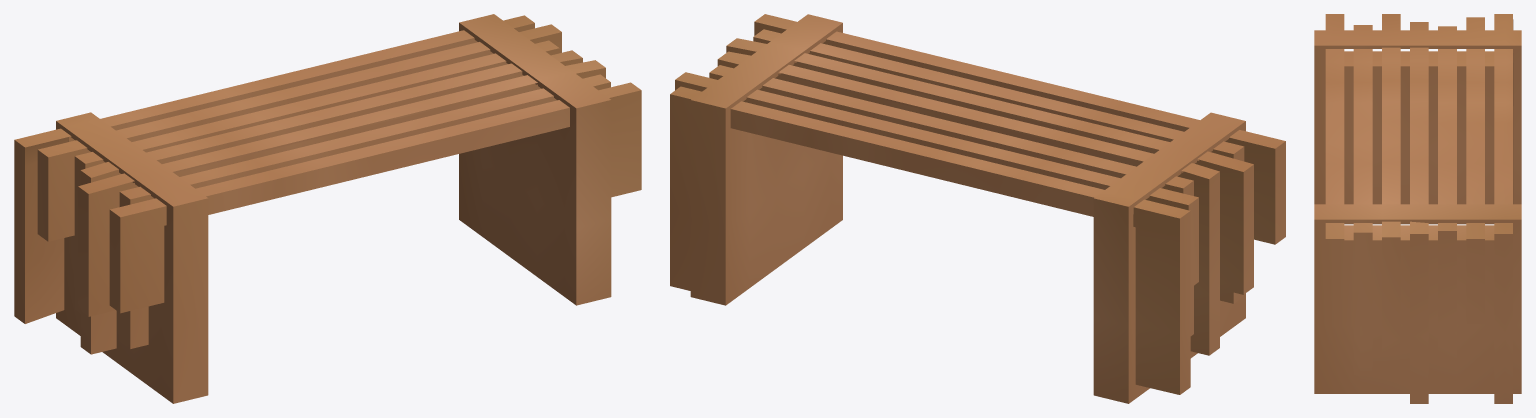
File: FlatParkBench.fbx
3 renders of one model, left to right at view 1: azimuth 30°, elevation 25°; view 2: azimuth 150°, elevation 25°; view 3: azimuth 270°, elevation 25°, orthographic. The views are drawn at different scales.
Parts seen in each view (by area): view 1: ParkBench; view 2: ParkBench; view 3: ParkBench.
Part boxes in pixels (x1=…): ParkBench: x1=14, y1=14, x2=641, y2=403; ParkBench: x1=670, y1=14, x2=1285, y2=403; ParkBench: x1=1314, y1=14, x2=1521, y2=403.
Size of the model in its own units: 301 by 109 by 117.
1 material, 1 textured.
